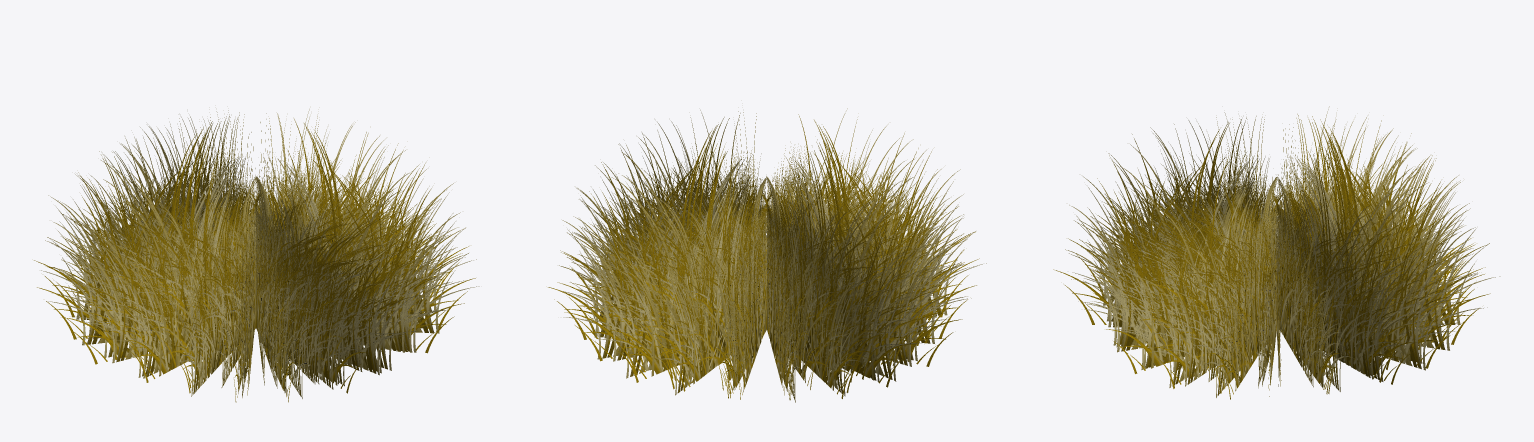
The model's file is WeedsDry2.fbx.
3 views of the same model, side by side, from view 1: azimuth 30°, elevation 25°; view 2: azimuth 150°, elevation 25°; view 3: azimuth 270°, elevation 25° (orthographic).
Parts seen in each view (by area): view 1: BuruianaJoc.003; view 2: BuruianaJoc.003; view 3: BuruianaJoc.003.
Boxes of the visible parts, x1=… form: BuruianaJoc.003: x1=34, y1=109, x2=479, y2=402; BuruianaJoc.003: x1=548, y1=108, x2=986, y2=402; BuruianaJoc.003: x1=1053, y1=106, x2=1500, y2=399.
Bounding box in the file's own units: 103 × 49.05 × 103.
